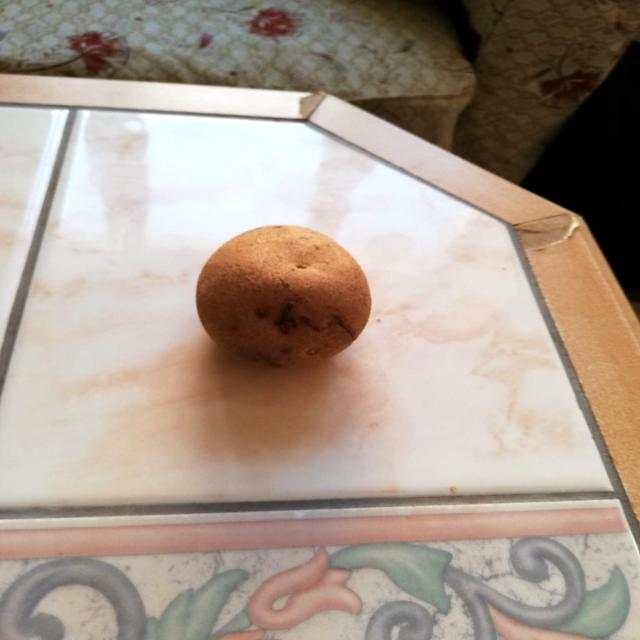potato: (190, 219, 379, 375)
